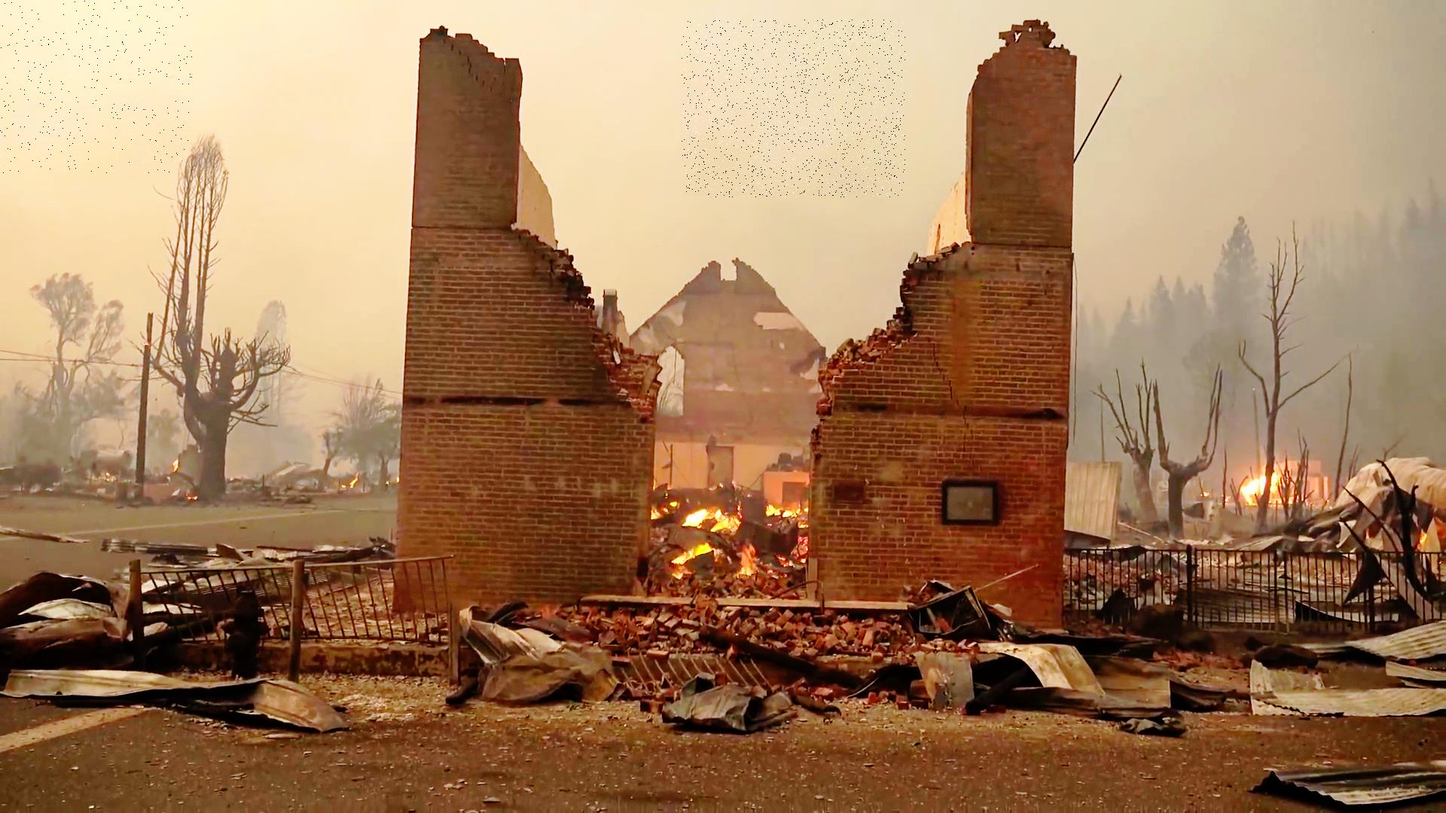smoke: (682, 20, 906, 198), (0, 0, 192, 173)
